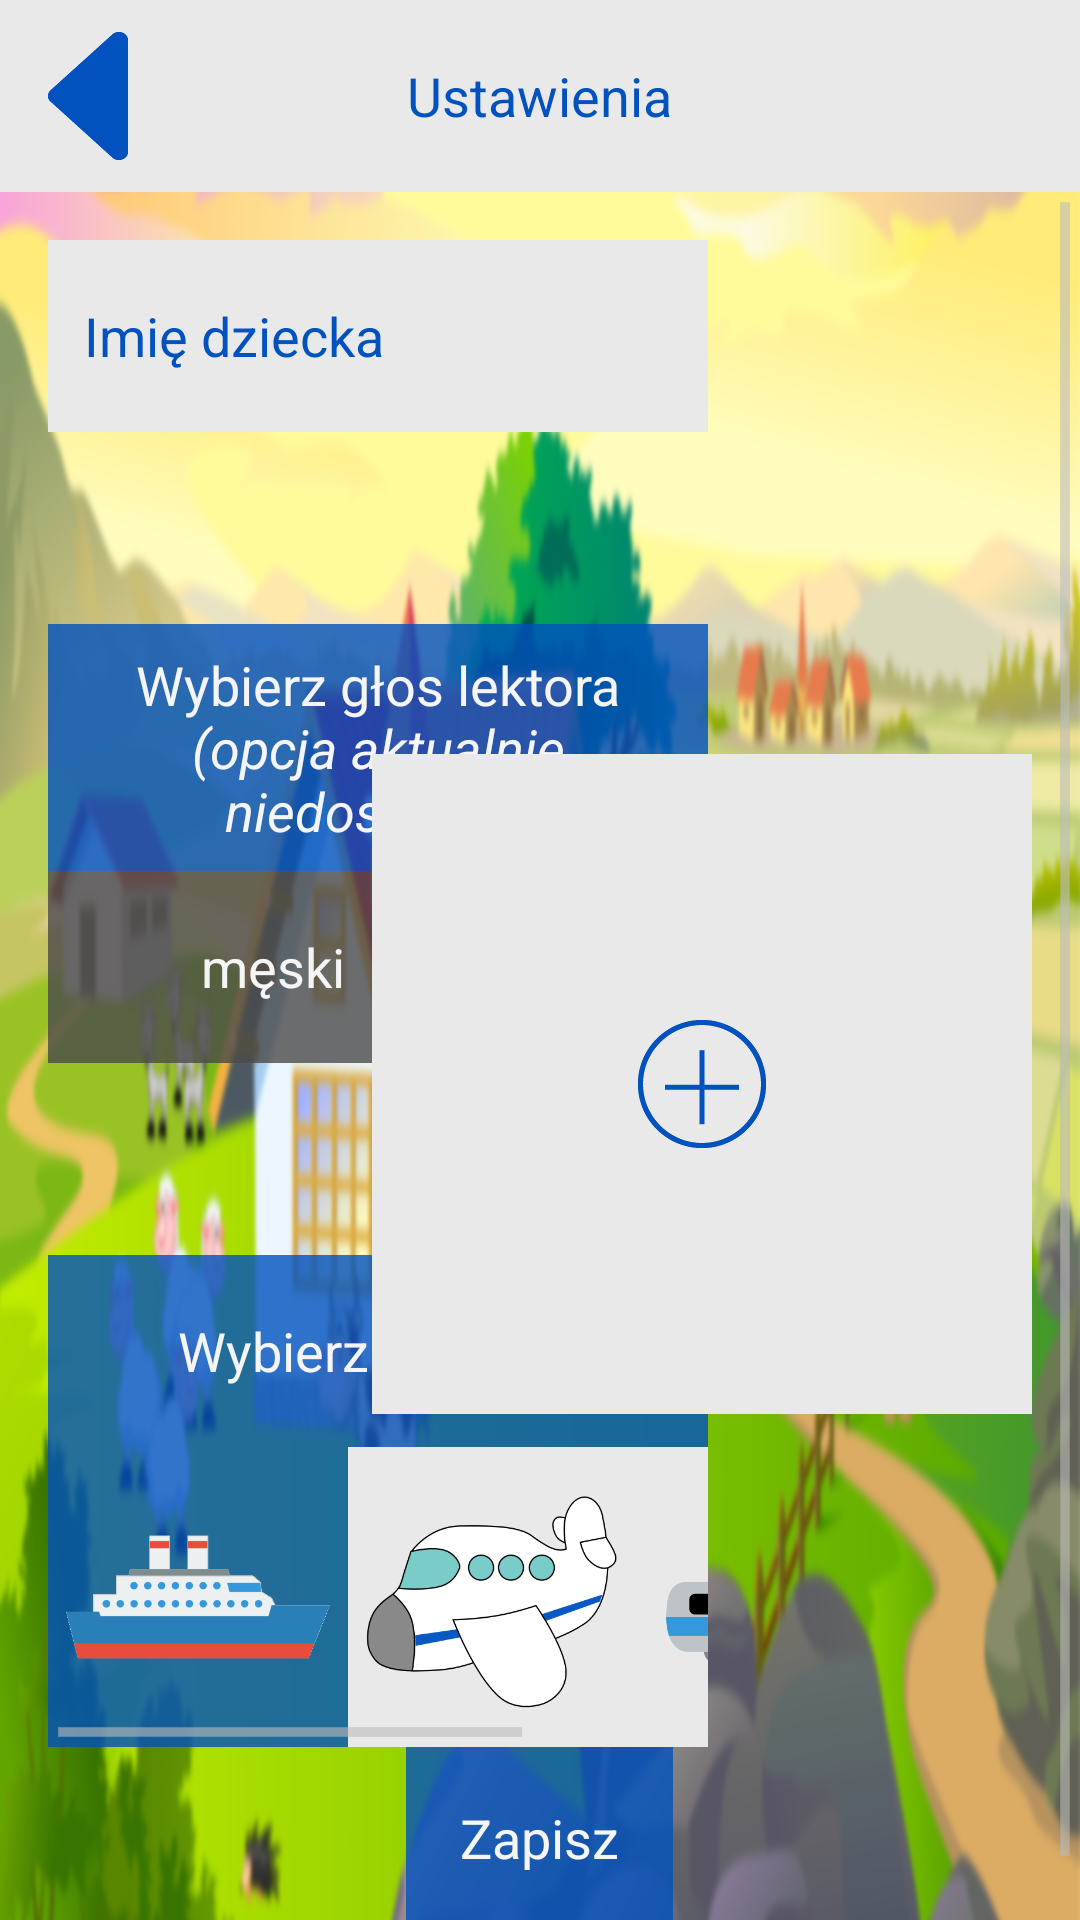

Where to tap for icons on this 1080*1920 app screen, as (x,y):
add: (702,1084)
plane: (498,1597)
Przycisk powrotu: (88,96)
ship: (198,1597)
